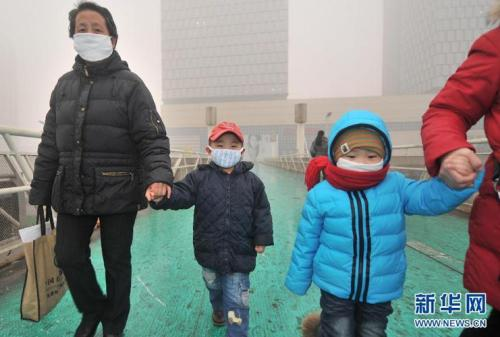person: (11, 1, 179, 337), (285, 106, 485, 337), (146, 119, 280, 337)
